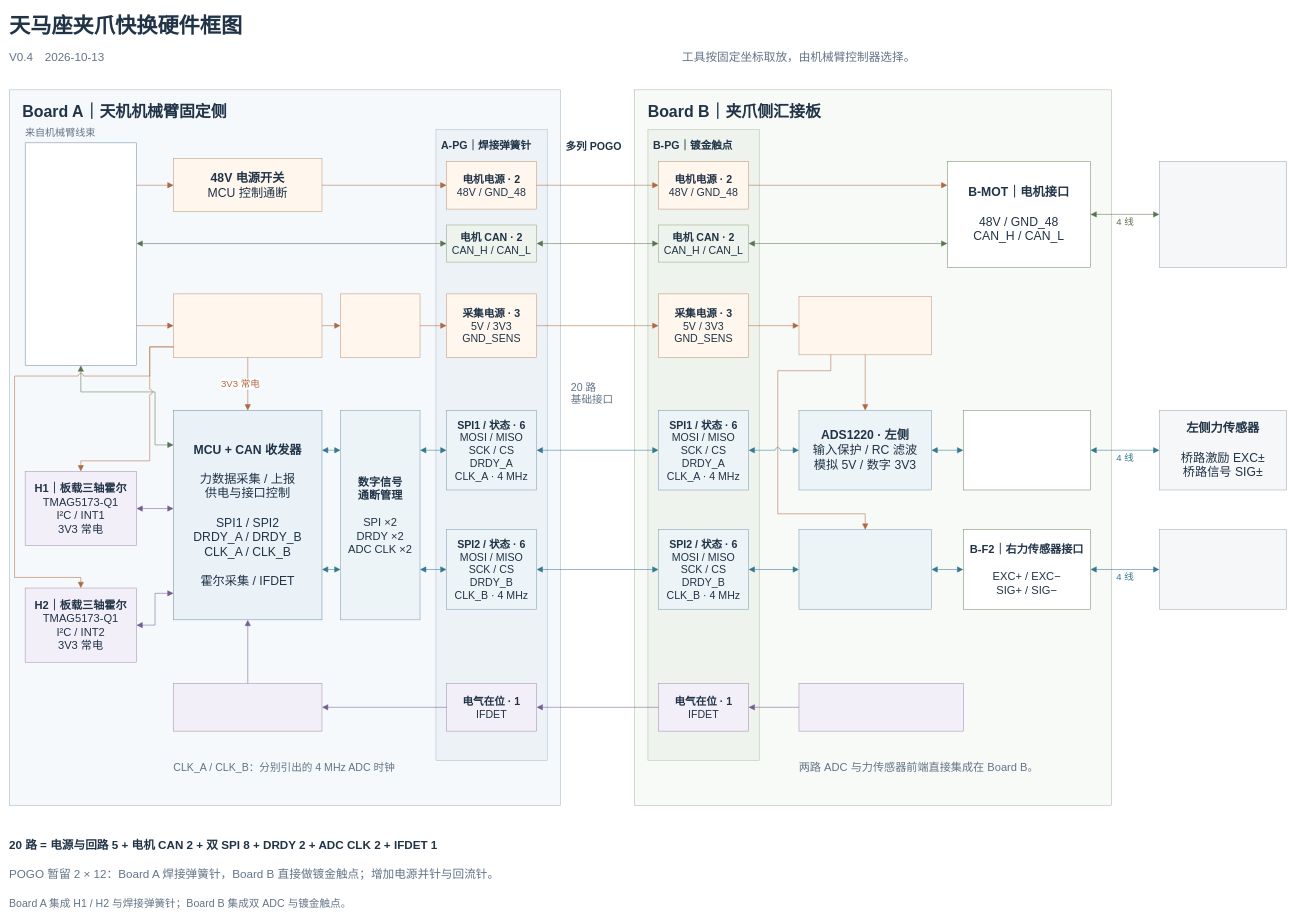
Some shapes in this 1296 by 920 pixel diagram are drawn without their labels. Each missing label, with the box of its shape:
24V → 5V → 3V3 本地电源: (173, 293, 322, 357)
5V / 3V3 受控输出 MCU 控制: (340, 293, 420, 357)
A-UP｜上游接口 48V / GND_48 24V / GND_24 传感 CAN_H / L 电机 CAN_H / L: (25, 142, 136, 365)
ADS1220 · 右侧 输入保护 / RC 滤波 模拟 5V / 数字 3V3: (798, 529, 931, 609)
B-F1｜左力传感器接口 EXC+ / EXC− SIG+ / SIG−: (963, 410, 1090, 490)
IFDET 下拉电阻 接 GND_SENS: (798, 683, 963, 731)
IFDET 输入 上拉至本地 3V3: (173, 683, 322, 731)
右侧力传感器 桥路激励 EXC± 桥路信号 SIG±: (1159, 529, 1287, 609)
夹爪电机与驱动 48V 供电 CAN 控制: (1159, 161, 1287, 267)
采集电源分配 / 滤波 5V / 3V3 / GND_SENS: (798, 296, 931, 355)
